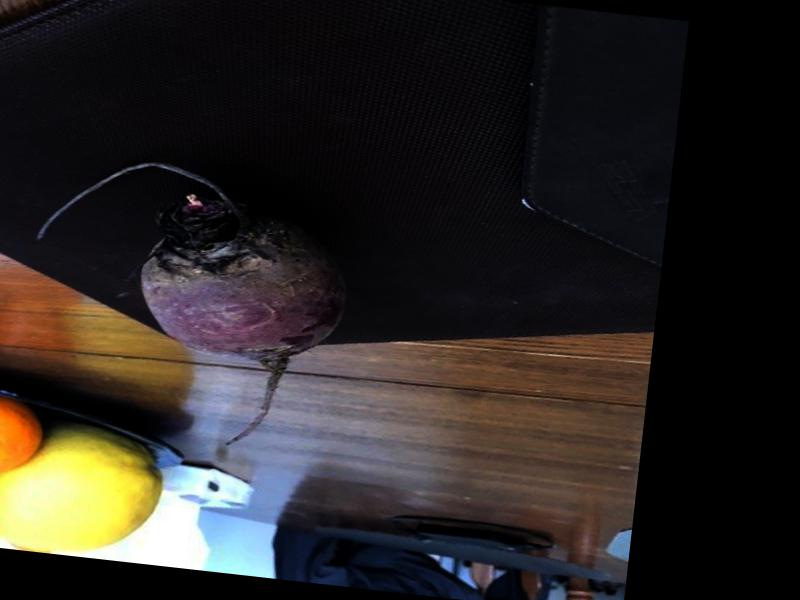Beet: (15, 149, 359, 457)
